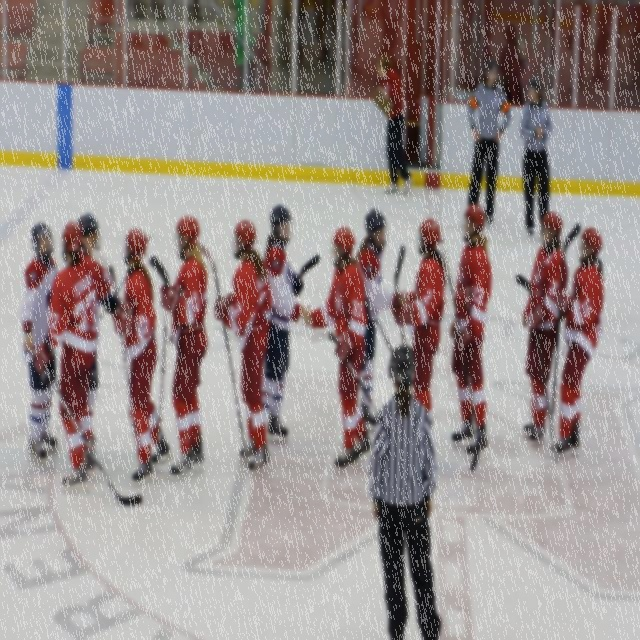pessoa: (366, 340, 444, 639), (31, 217, 114, 496), (94, 1, 404, 66), (300, 224, 372, 477), (112, 226, 174, 486), (213, 216, 274, 478), (158, 213, 209, 483), (548, 224, 605, 462), (446, 201, 494, 466), (355, 204, 410, 432), (261, 202, 313, 442), (389, 218, 446, 432), (520, 208, 570, 450), (18, 220, 60, 466), (76, 210, 122, 424), (458, 55, 513, 232), (517, 75, 554, 240), (376, 54, 414, 196), (510, 34, 545, 106)
